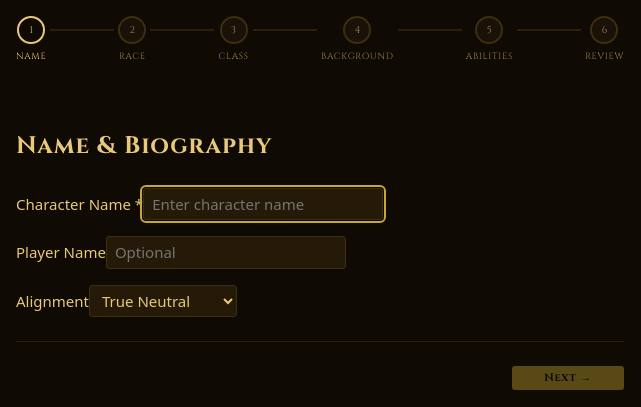
it: character creation flows › disables Next until character name is entered
The width and height of the screenshot is (641, 407).
Expected: the button "Next →" is disabled, [512,366,624,390]
In the field labelled "Character Name *": [263, 204] box [143,188,383,220], type "Thorn"
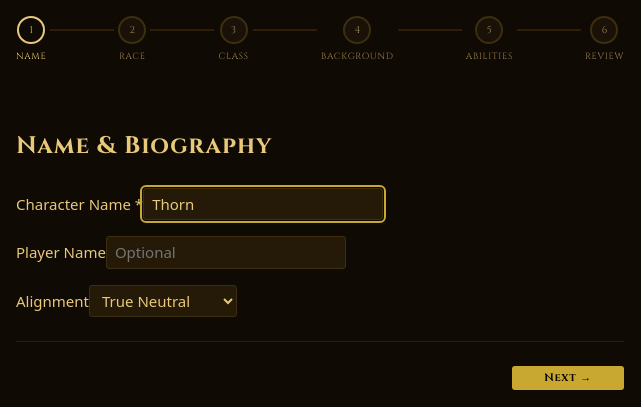
Expected: the button "Next →" is enabled, [512,366,624,390]
